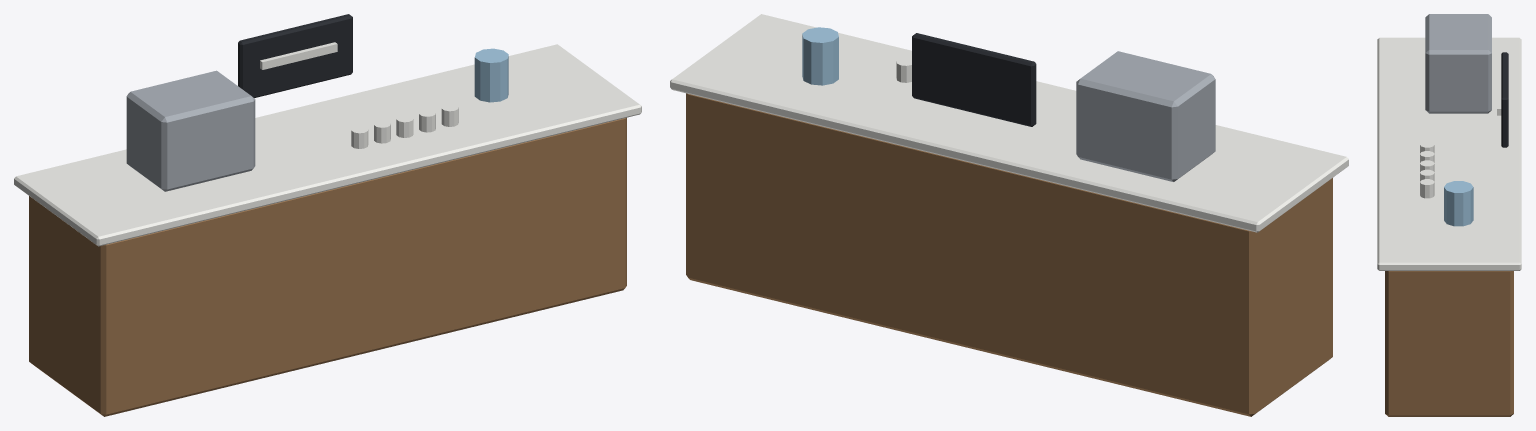
The model's file is coffee_bar.glb.
The picture shows the model from 3 angles, left to right: view 1: azimuth 30°, elevation 25°; view 2: azimuth 150°, elevation 25°; view 3: azimuth 270°, elevation 25°; orthographic projection. The views are drawn at different scales.
Parts seen in each view (by area): view 1: coffee_bar_mesh; view 2: coffee_bar_mesh; view 3: coffee_bar_mesh.
Boxes of the visible parts, x1=… form: coffee_bar_mesh: x1=14, y1=14, x2=641, y2=416; coffee_bar_mesh: x1=670, y1=14, x2=1348, y2=416; coffee_bar_mesh: x1=1377, y1=14, x2=1521, y2=416.
Bounding box in the file's own units: 2.9 × 1.4 × 0.78.
